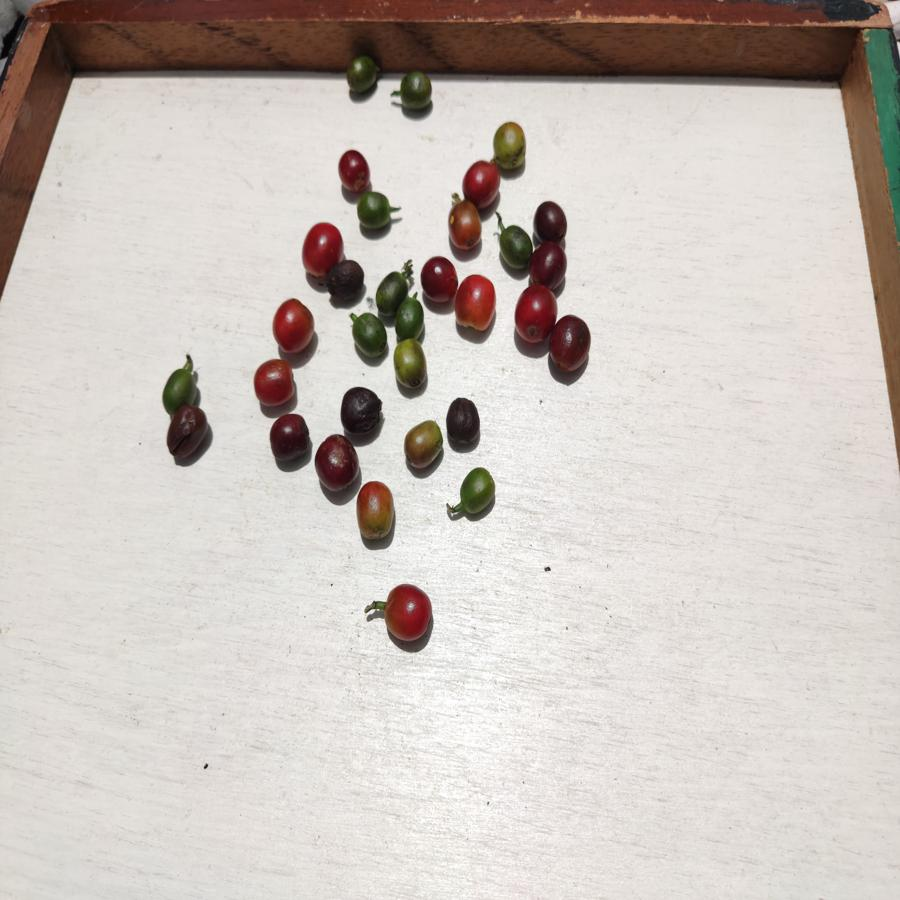Inmaduro: (455, 464, 497, 514), (343, 57, 385, 97), (499, 226, 533, 274), (353, 309, 387, 356), (353, 193, 393, 231), (160, 366, 200, 404), (391, 295, 426, 338), (396, 73, 435, 111), (371, 271, 407, 312)
Maduro: (384, 584, 437, 646), (454, 271, 496, 333), (273, 299, 318, 353), (513, 287, 553, 343), (253, 357, 296, 405), (299, 223, 344, 261), (463, 159, 501, 203)
Pinton: (357, 482, 395, 543), (393, 340, 428, 392), (403, 422, 443, 467), (493, 120, 528, 169), (448, 203, 483, 250)
Sobremaduro: (314, 435, 361, 492), (164, 406, 208, 461), (552, 315, 591, 372), (340, 387, 382, 435), (269, 412, 309, 462), (418, 255, 457, 304), (529, 244, 569, 288), (445, 395, 480, 445), (325, 259, 365, 299), (335, 149, 371, 190), (535, 201, 568, 242)
